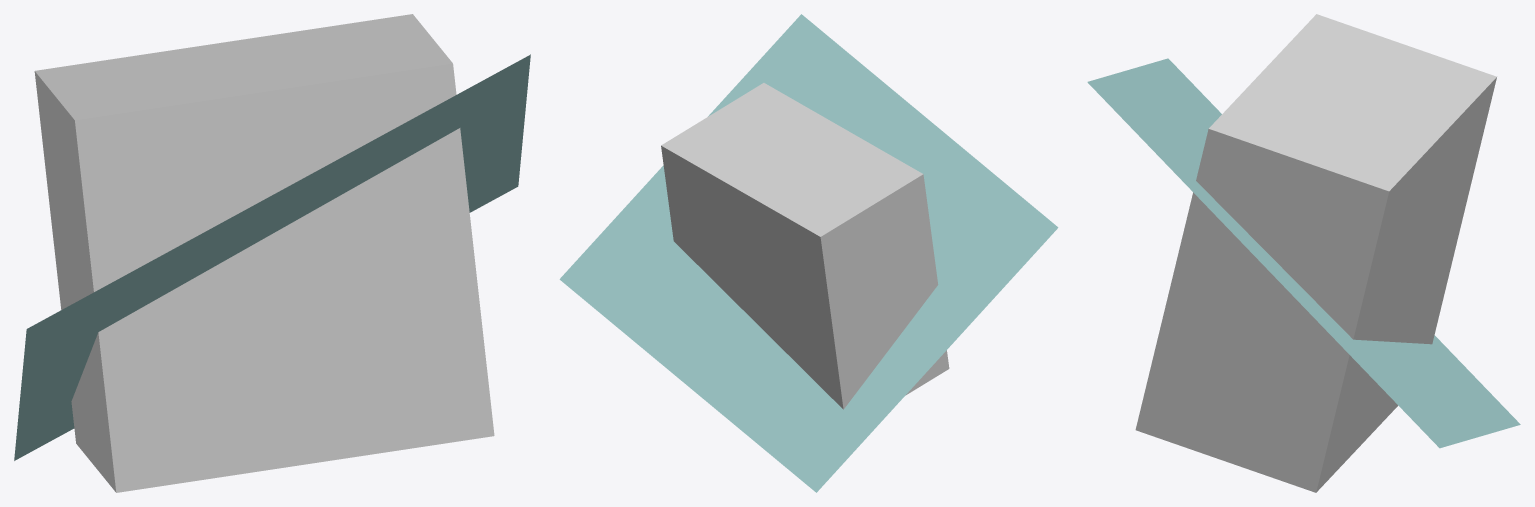
The model's file is plane_cut.dae.
The picture shows the model from 3 angles, left to right: view 1: azimuth 30°, elevation 25°; view 2: azimuth 150°, elevation 25°; view 3: azimuth 270°, elevation 25°; orthographic projection. The views are drawn at different scales.
Parts seen in each view (by area): view 1: Model; view 2: Model; view 3: Model.
Part boxes in pixels (x1,y1,x2,y2): Model: (14,14,530,492); Model: (559,14,1058,492); Model: (1087,14,1520,492).
Size of the model in its own units: 1.34 by 1.03 by 0.883.
